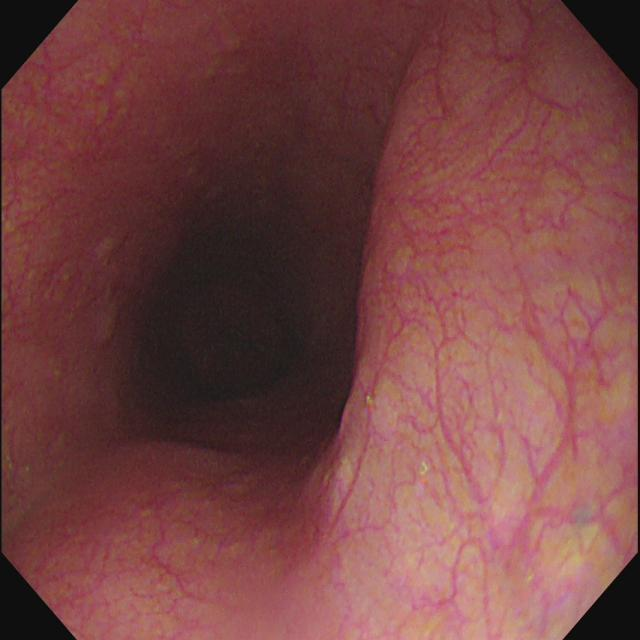E: (116, 164, 371, 455)
